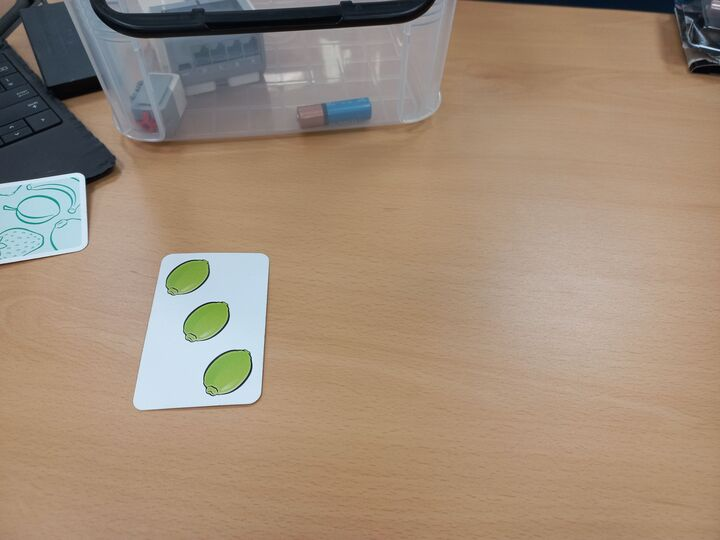lime3: (131, 250, 272, 412)
